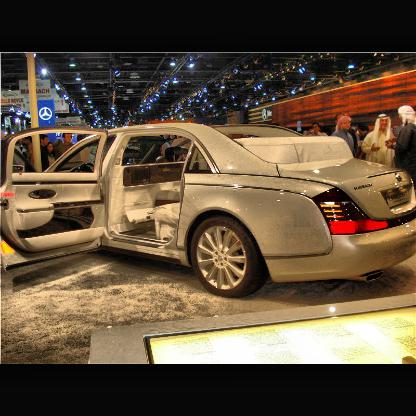Maybach Landaulet Convertible 2012: (4, 121, 414, 300)
